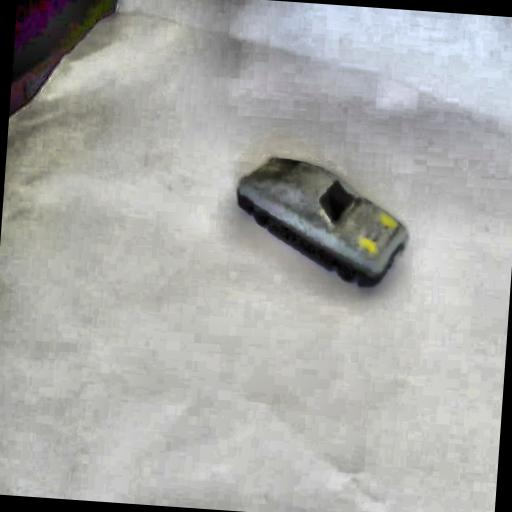normal_car: (228, 150, 413, 292)
